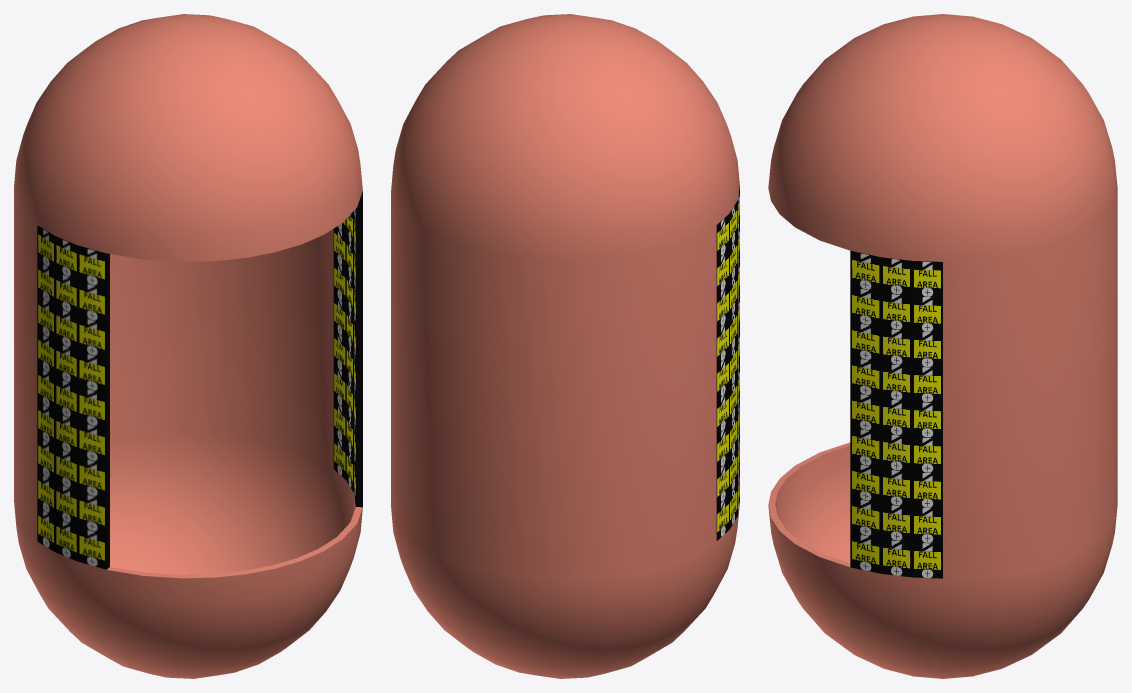
The model's file is GravityPrioritySample.fbx.
3 renders of one model, left to right at view 1: azimuth 30°, elevation 25°; view 2: azimuth 150°, elevation 25°; view 3: azimuth 270°, elevation 25°, orthographic.
Visible parts, largest first — view 1: HollowenCapsule; view 2: HollowenCapsule; view 3: HollowenCapsule.
Boxes of the visible parts, left/top/right/bottom form: HollowenCapsule: left=14, top=14, right=362, bottom=678; HollowenCapsule: left=391, top=14, right=739, bottom=678; HollowenCapsule: left=768, top=14, right=1117, bottom=678.
Bounding box in the file's own units: 2500 × 5000 × 2500.
